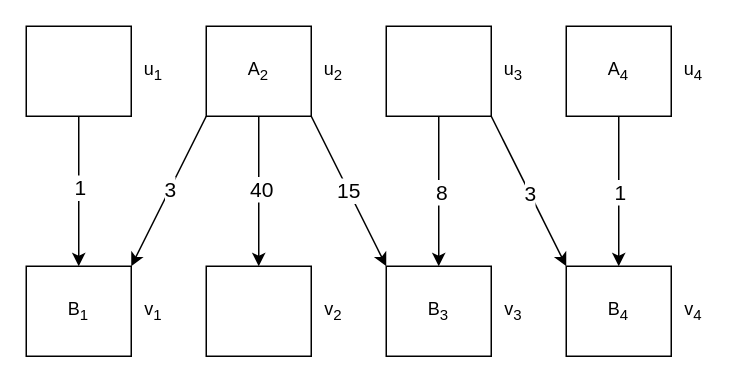
Image size: 743x383. Some labels were removed from this diagram. The shapes that lost their labels are listed below. From the top down, each one's box as (x1, y1, x2, y2) in pixels, then its label:
(25, 25, 131, 116): A 1
(385, 25, 491, 116): A 3
(205, 265, 311, 356): B 2
